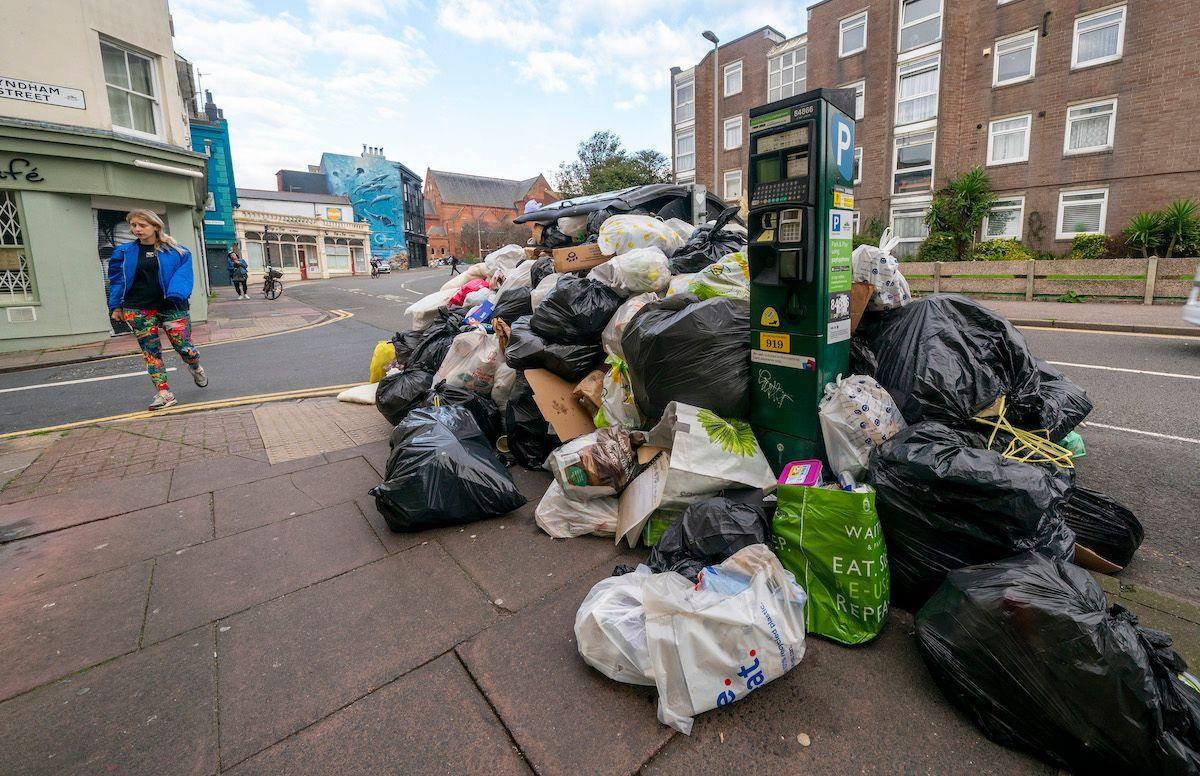garbage: (354, 120, 1200, 744)
